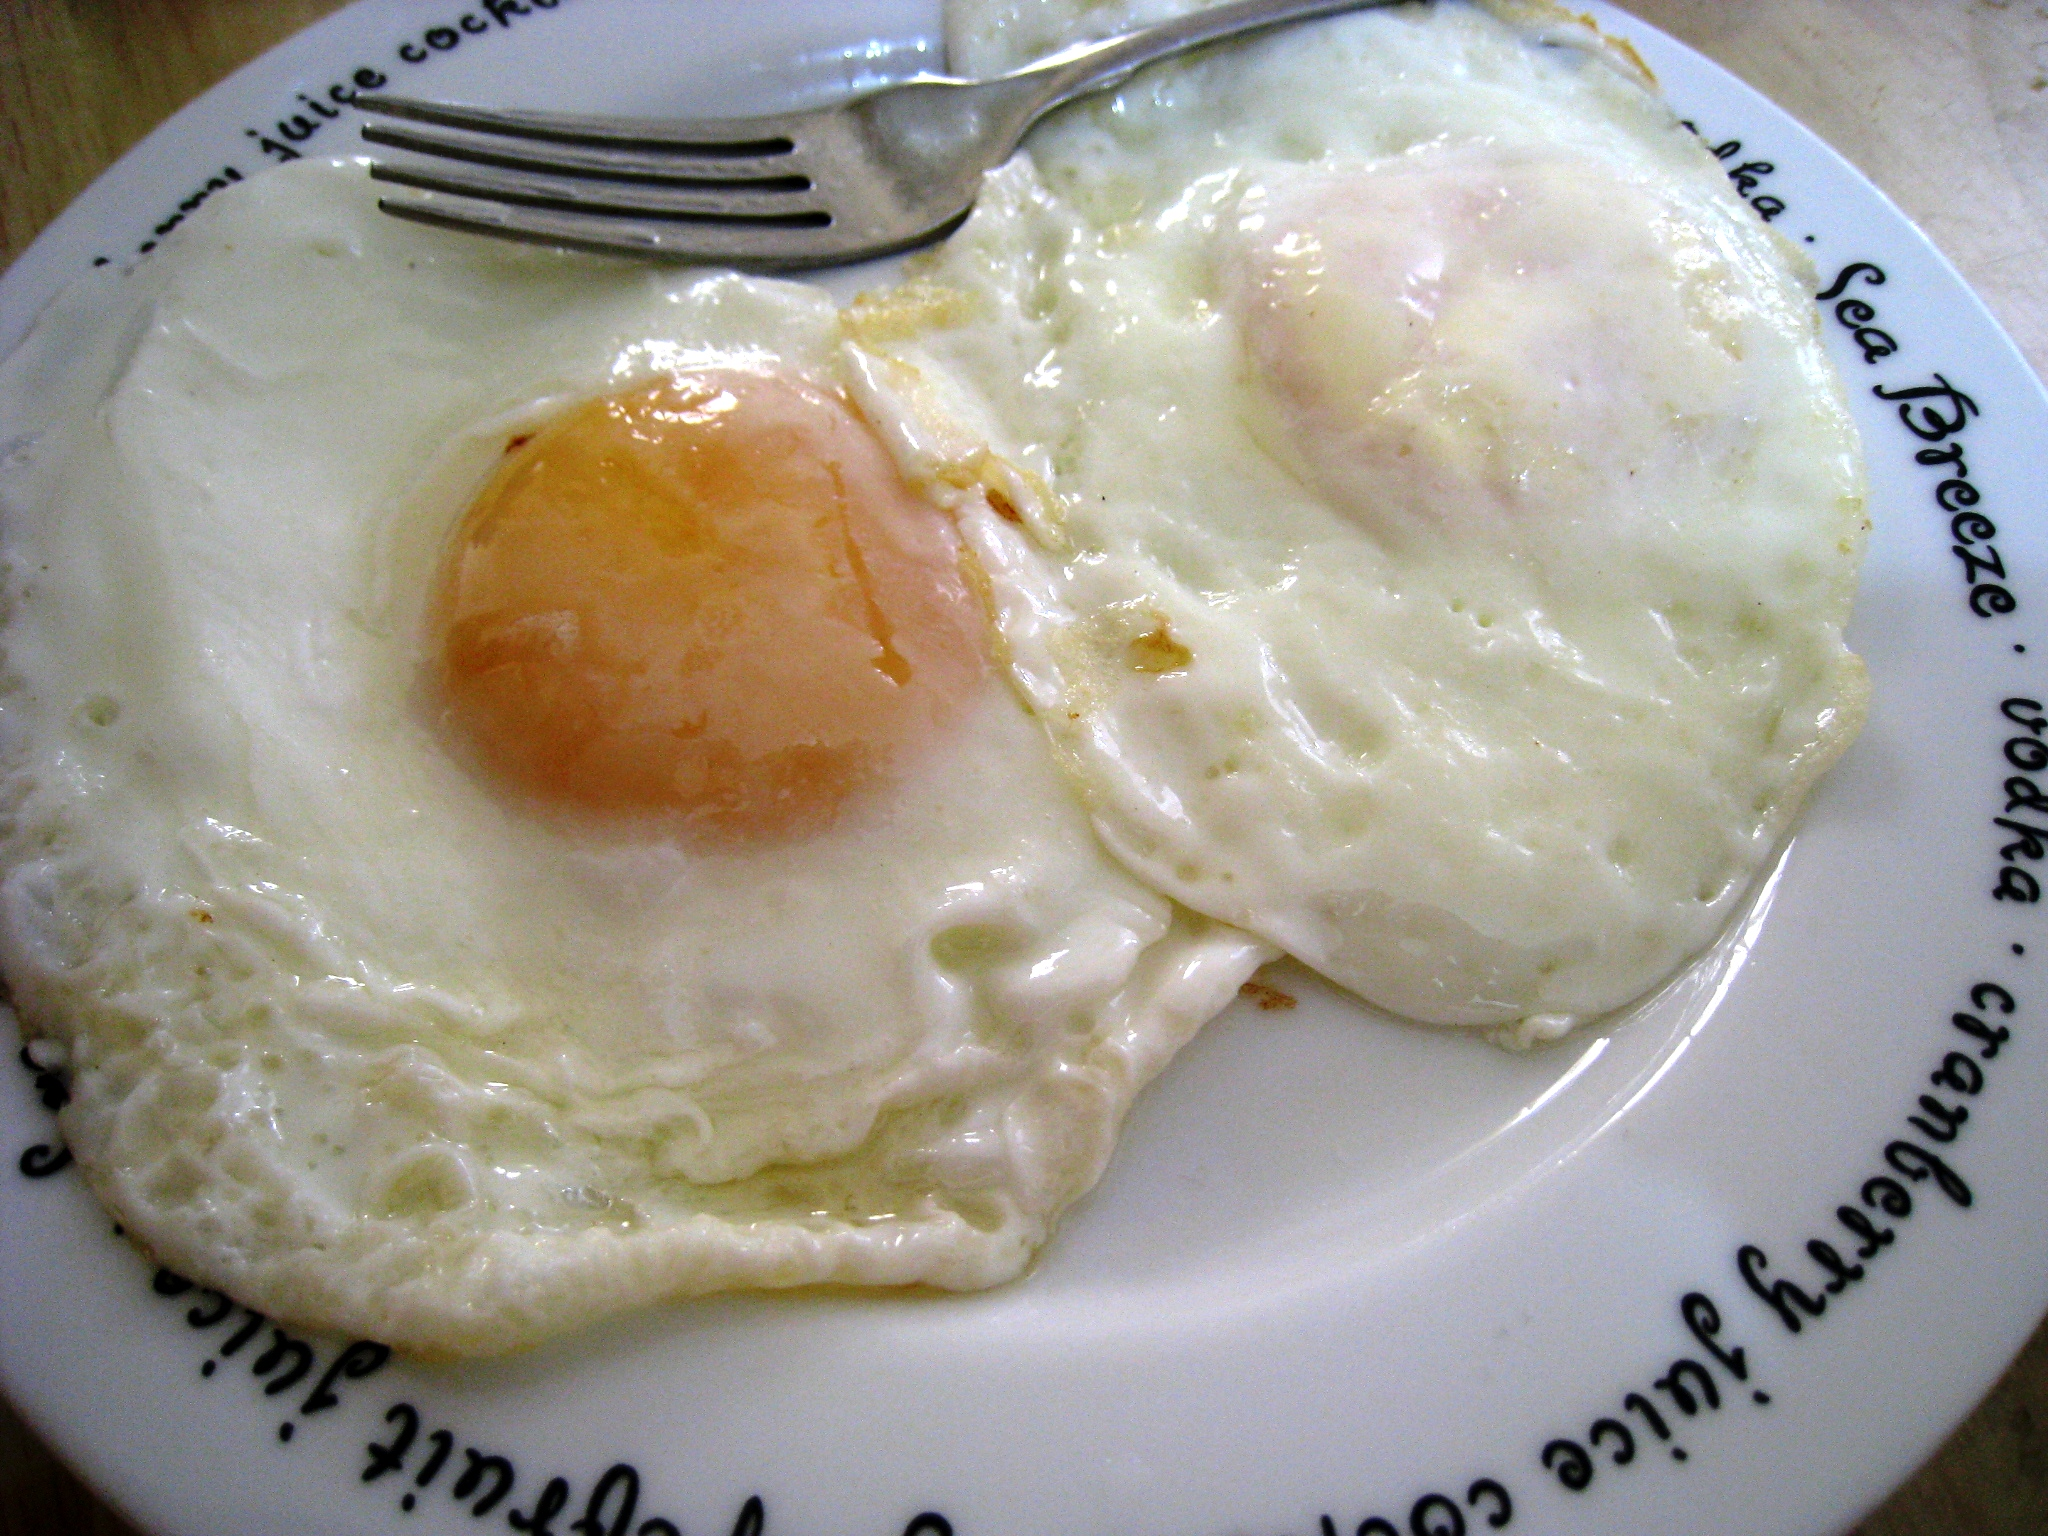fried_eggs: (242, 231, 1064, 1187), (1092, 136, 1745, 902)
